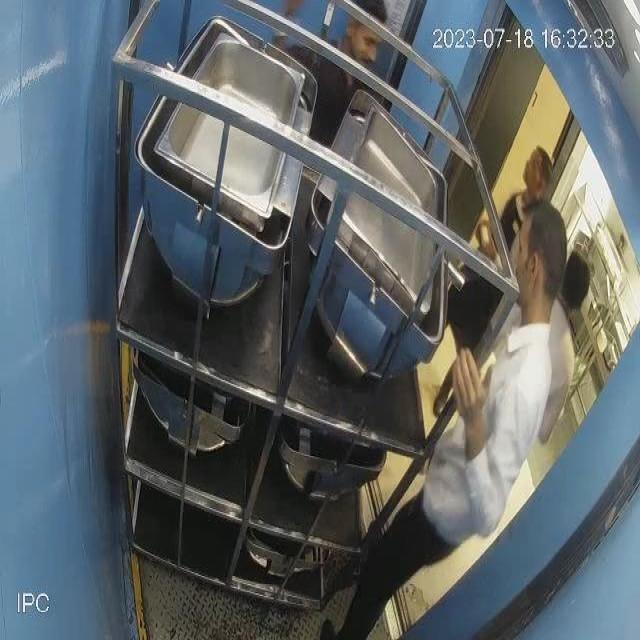person: (322, 212, 585, 640)
